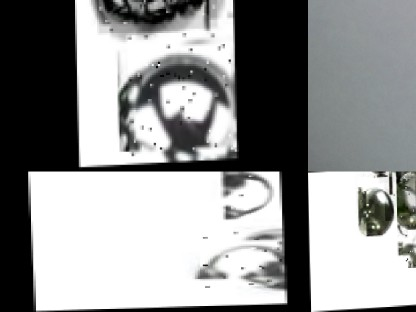ironball: (126, 29, 236, 163), (197, 230, 284, 287), (97, 0, 217, 33), (220, 171, 281, 219), (357, 174, 397, 236), (384, 174, 415, 220), (402, 234, 415, 261), (378, 171, 401, 183)
